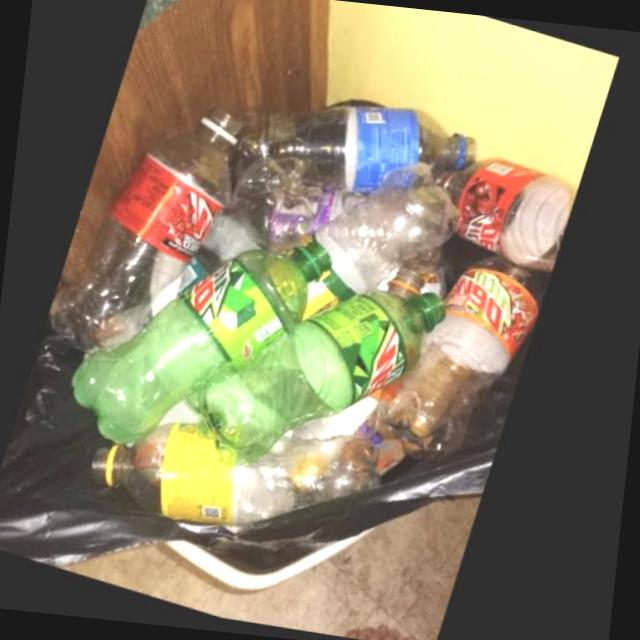chai_nhua: (74, 242, 335, 452), (191, 293, 450, 472)
chai_nhua_pet: (53, 112, 243, 356), (381, 260, 553, 451), (95, 427, 384, 530), (306, 165, 461, 323), (234, 102, 476, 197), (453, 159, 576, 280)
